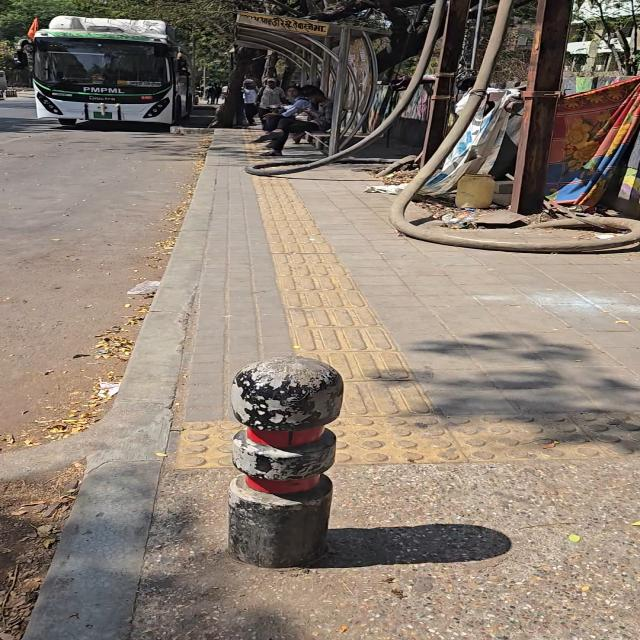bench: (229, 357, 343, 568)
bike: (229, 356, 343, 568), (511, 0, 572, 215), (421, 0, 470, 164), (262, 89, 333, 156), (328, 26, 350, 155), (264, 86, 312, 132), (259, 79, 285, 120), (470, 0, 483, 69), (242, 79, 257, 125), (213, 84, 222, 103), (205, 83, 213, 103)
